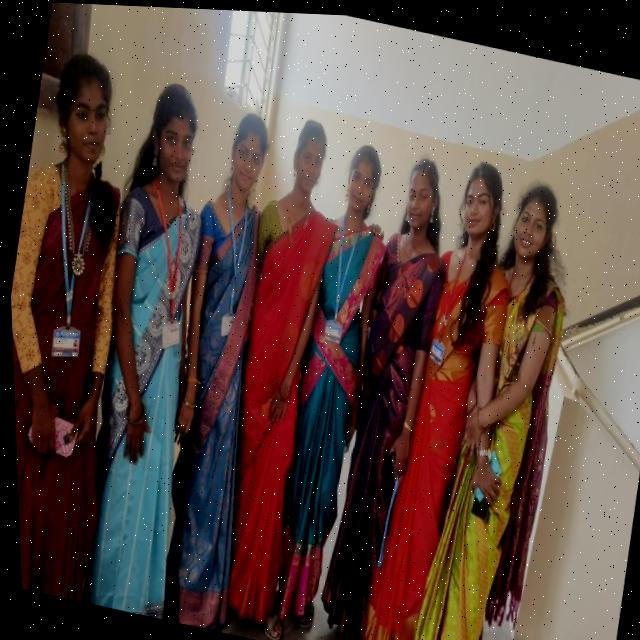id_card: (21, 165, 116, 368), (121, 178, 210, 357), (314, 219, 366, 345)
